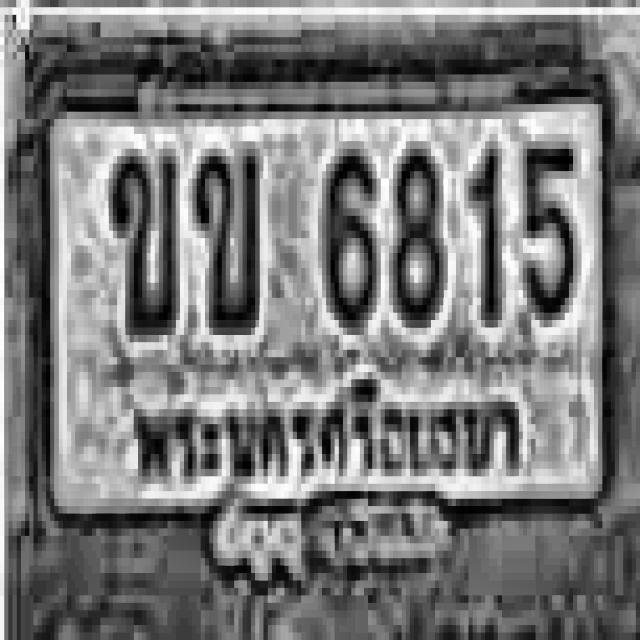license-plate: (27, 56, 618, 574)
